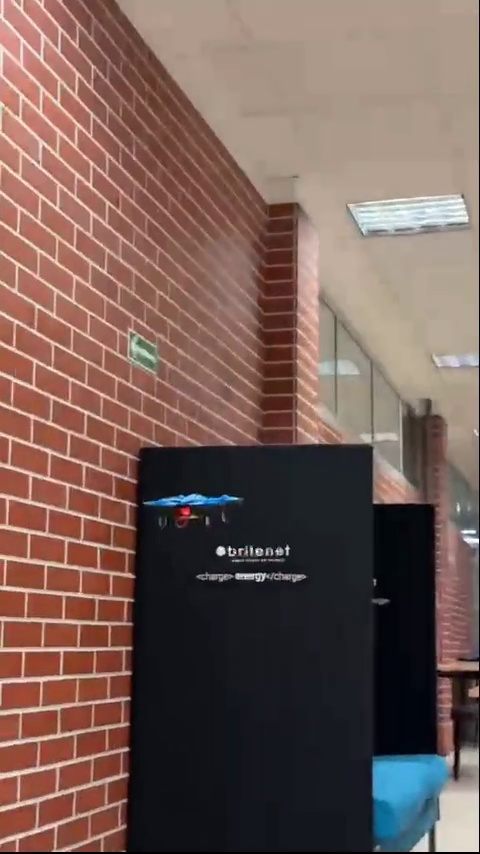drone: (143, 494, 245, 533)
